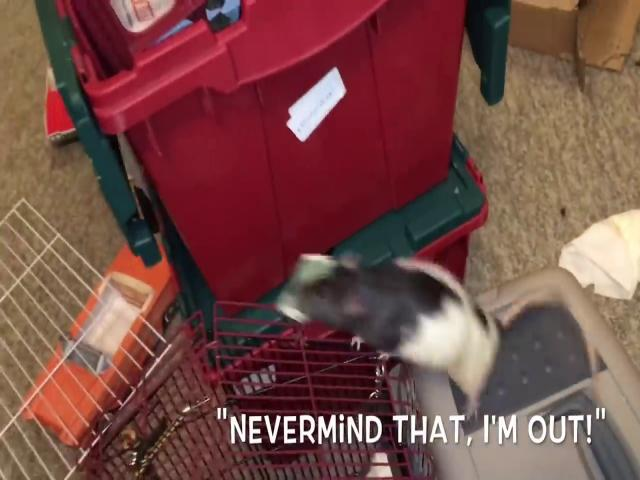Tikus: (294, 248, 602, 398)
